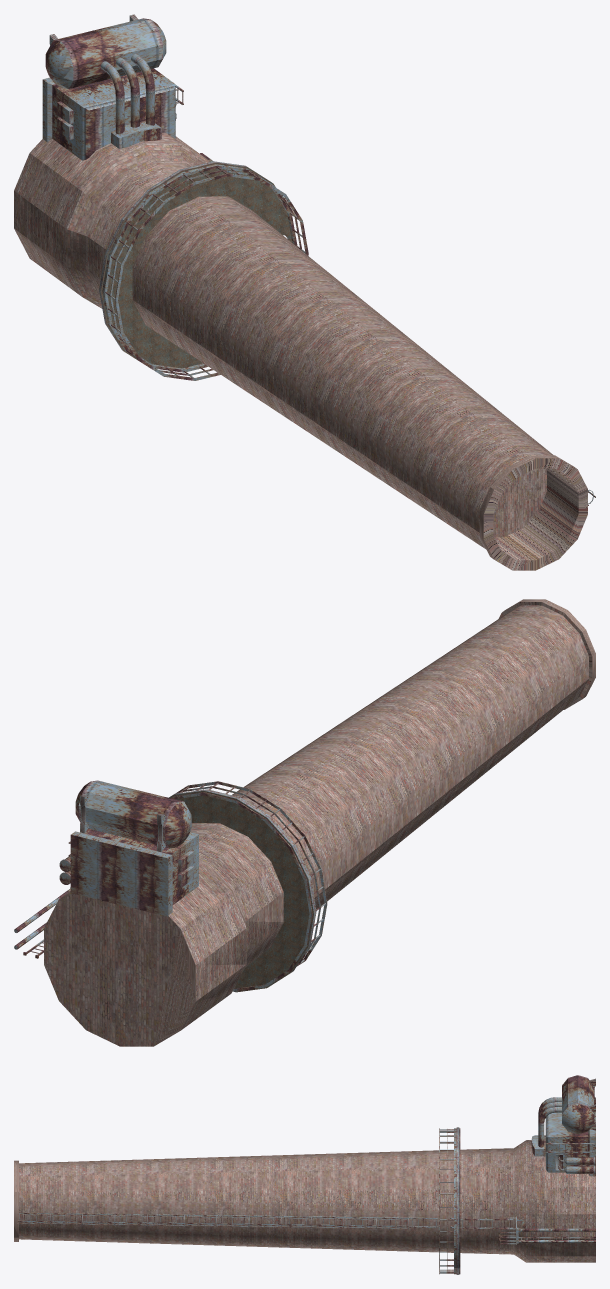
The model's file is heizturm_2.obj.
3 renders of one model, top to bottom at view 1: azimuth 30°, elevation 25°; view 2: azimuth 150°, elevation 25°; view 3: azimuth 270°, elevation 25°, orthographic. The views are drawn at different scales.
Visible parts, largest first — view 1: MDL_Objec1; view 2: MDL_Objec1; view 3: MDL_Objec1.
Boxes of the visible parts, box(x1,y1,x2,y2) form: MDL_Objec1: box(14, 14, 595, 570); MDL_Objec1: box(14, 599, 595, 1046); MDL_Objec1: box(14, 1075, 595, 1274).
Bounding box in the file's own units: 14.01 × 17.31 × 51.41.
Materials: 3 (3 with a texture image).
